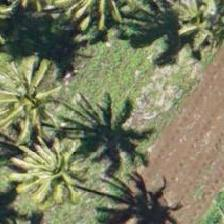coconut_tree: (0, 128, 80, 218), (0, 50, 68, 140), (0, 0, 48, 56)
